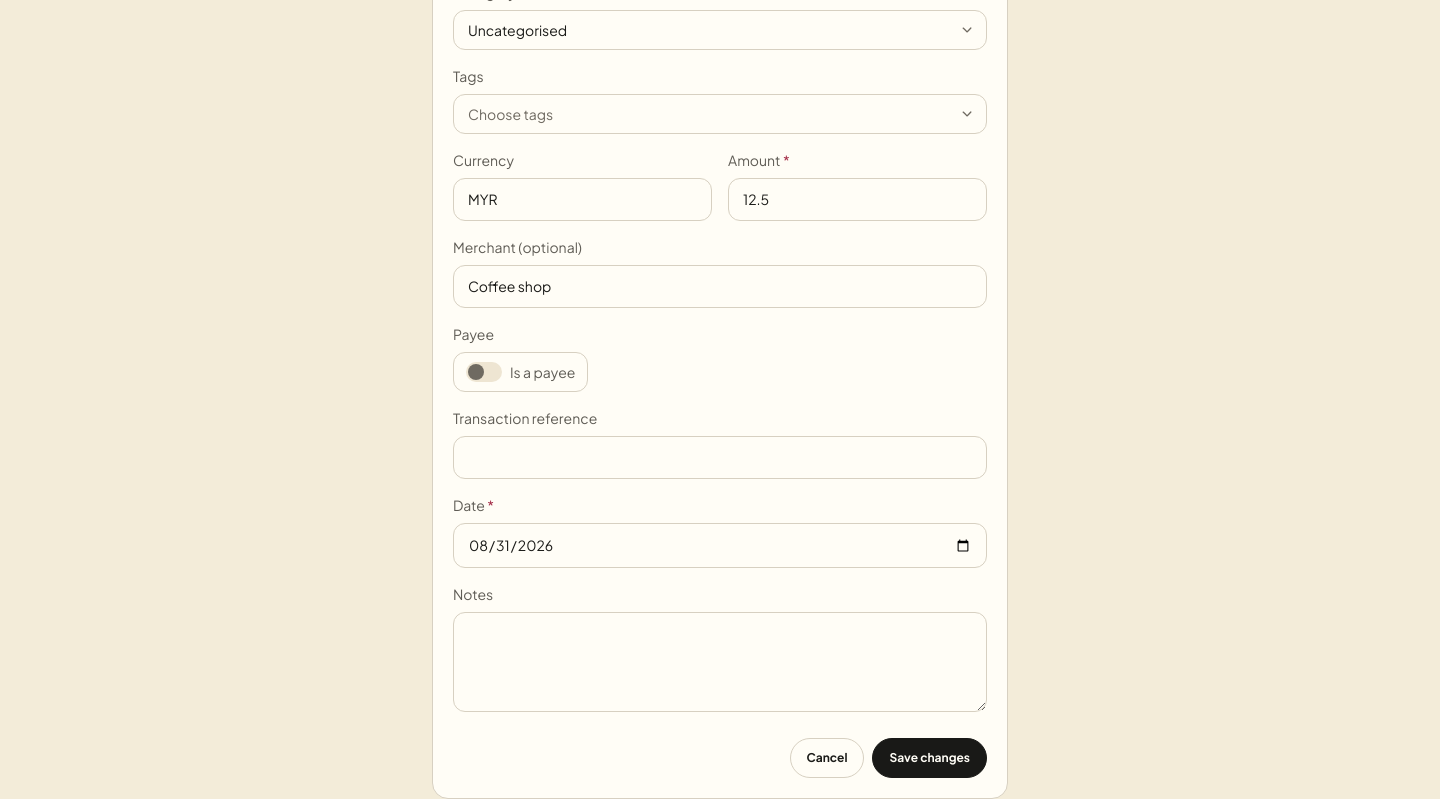
transaction update notifications › keeps failed saves in the editor with an error dialog and no success toast
(page scrolled)
Click the button "Save changes".
click(930, 758)  # box [872,738,987,778]
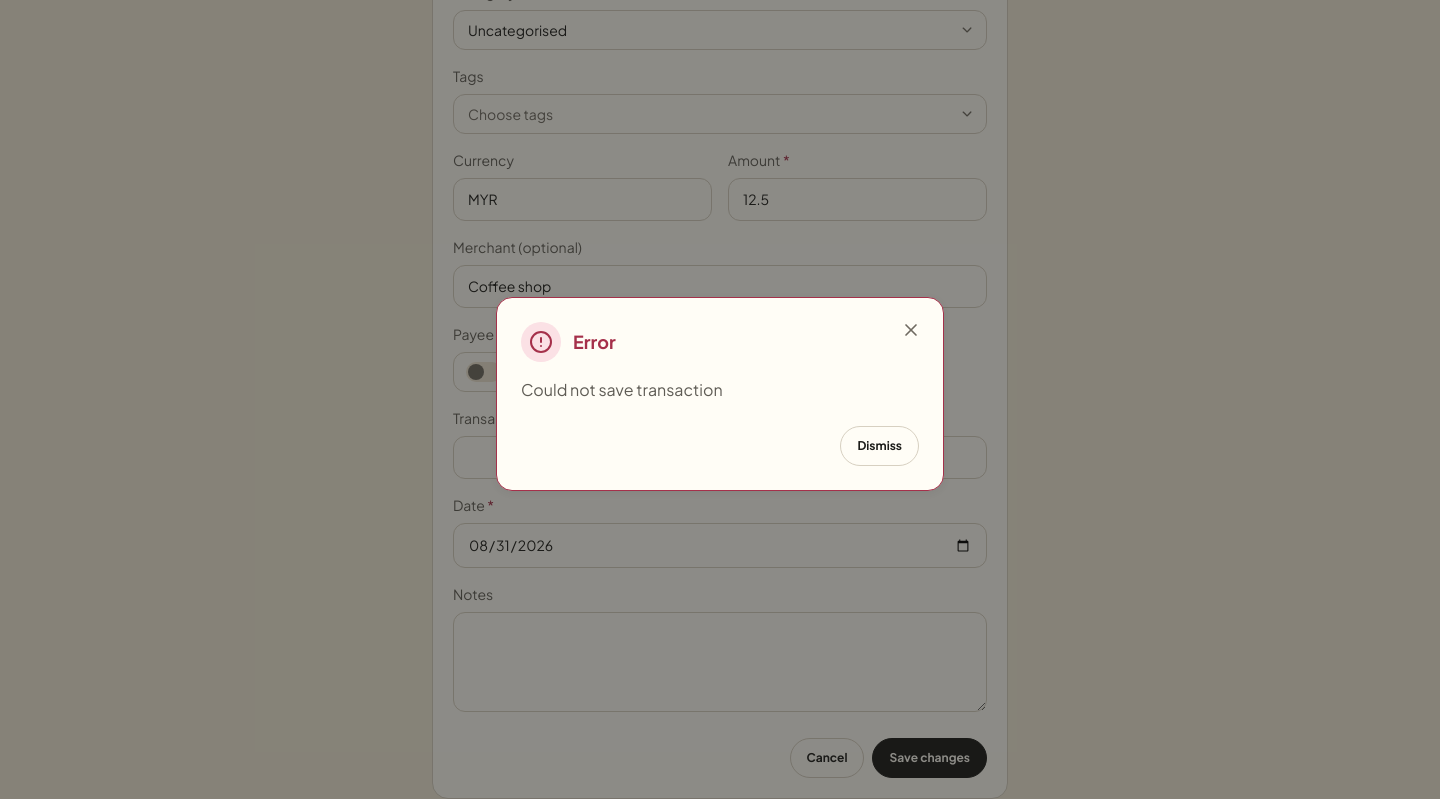
Now the dialog shows "Could not save transaction", box [521,379,723,400]
